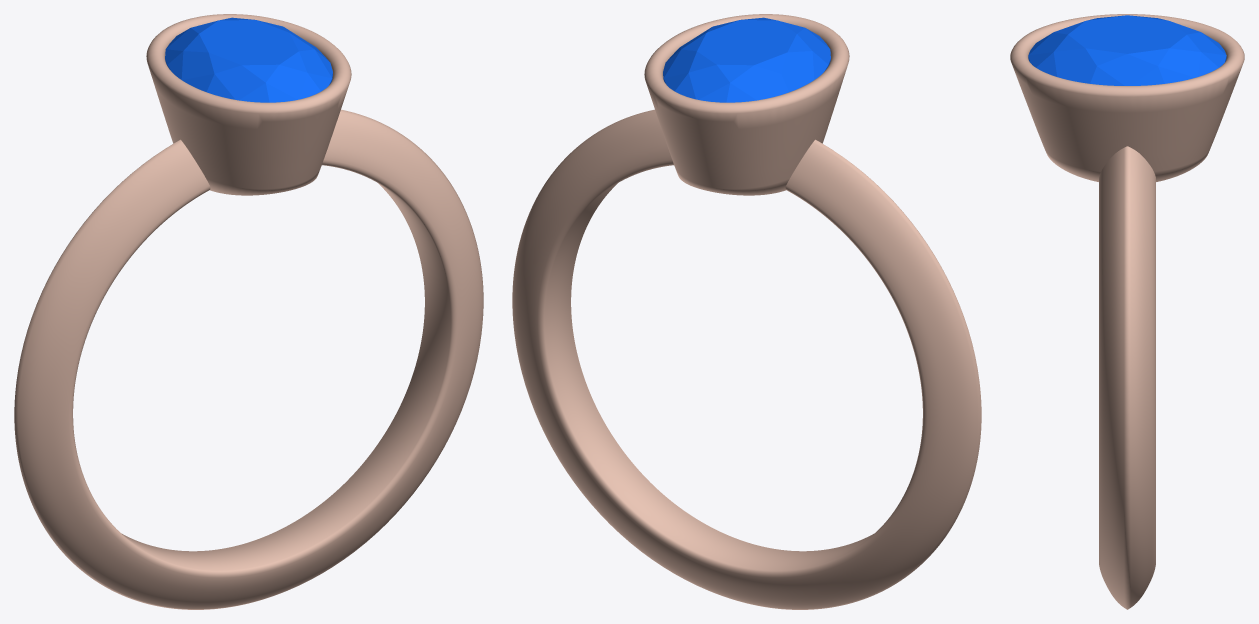
Rendered from bluesapphire-oval-rosegold-bezelset-knifeedge-nosidestones.glb.
3 renders of one model, left to right at view 1: azimuth 30°, elevation 25°; view 2: azimuth 150°, elevation 25°; view 3: azimuth 270°, elevation 25°, orthographic.
Parts seen in each view (by area): view 1: metal, stone; view 2: metal, stone; view 3: metal, stone.
Boxes of the visible parts, bbox=[...] form: metal: bbox=[14, 14, 483, 609]; stone: bbox=[165, 17, 332, 102]; metal: bbox=[512, 14, 981, 609]; stone: bbox=[663, 17, 830, 102]; metal: bbox=[1010, 14, 1244, 609]; stone: bbox=[1028, 15, 1226, 85].
Bounding box in the file's own units: 20.49 × 23.4 × 9.04.
